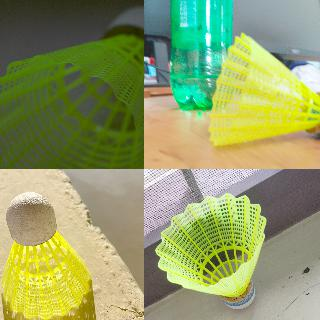shuttlecock: (0, 8, 143, 168), (207, 32, 319, 147), (156, 194, 266, 310), (0, 192, 90, 318)
